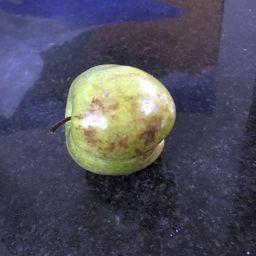apple: (41, 54, 201, 177)
